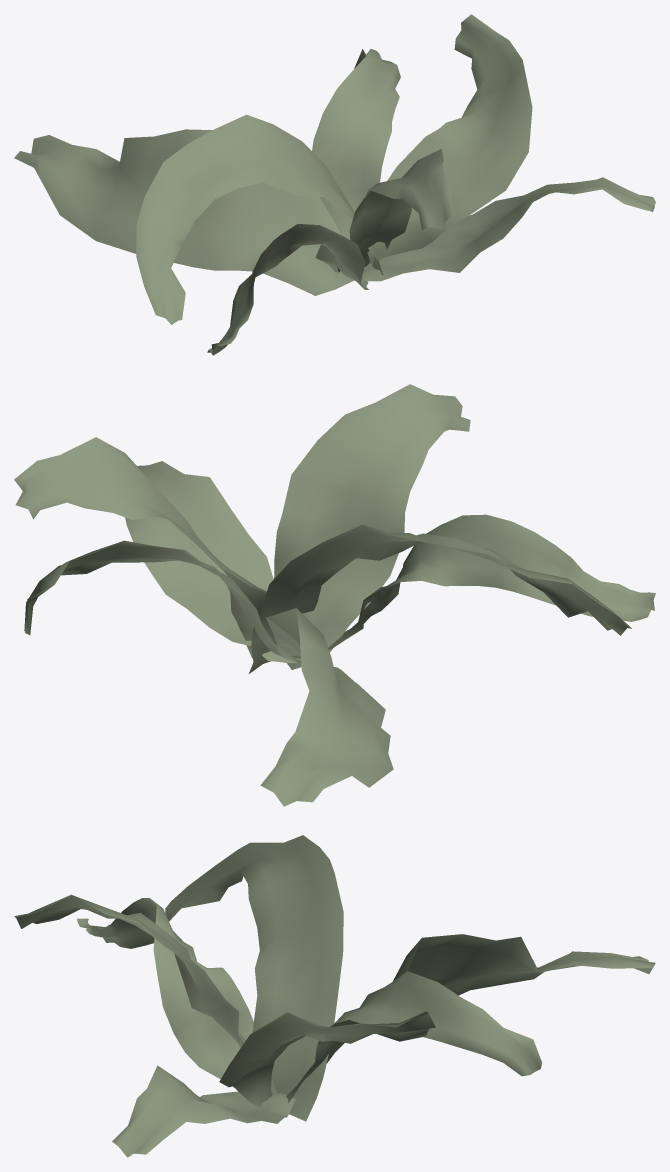
Rendered from fern_02_3.glb.
3 renders of one model, top to bottom at view 1: azimuth 30°, elevation 25°; view 2: azimuth 150°, elevation 25°; view 3: azimuth 270°, elevation 25°, orthographic. The views are drawn at different scales.
Parts seen in each view (by area): view 1: fern_02_3; view 2: fern_02_3; view 3: fern_02_3.
Boxes of the visible parts, <box> form: fern_02_3: <box>14,14,655,355</box>; fern_02_3: <box>14,384,655,806</box>; fern_02_3: <box>14,835,655,1157</box>.
Size of the model in its own units: 0.5728 by 0.2131 by 0.5933.
